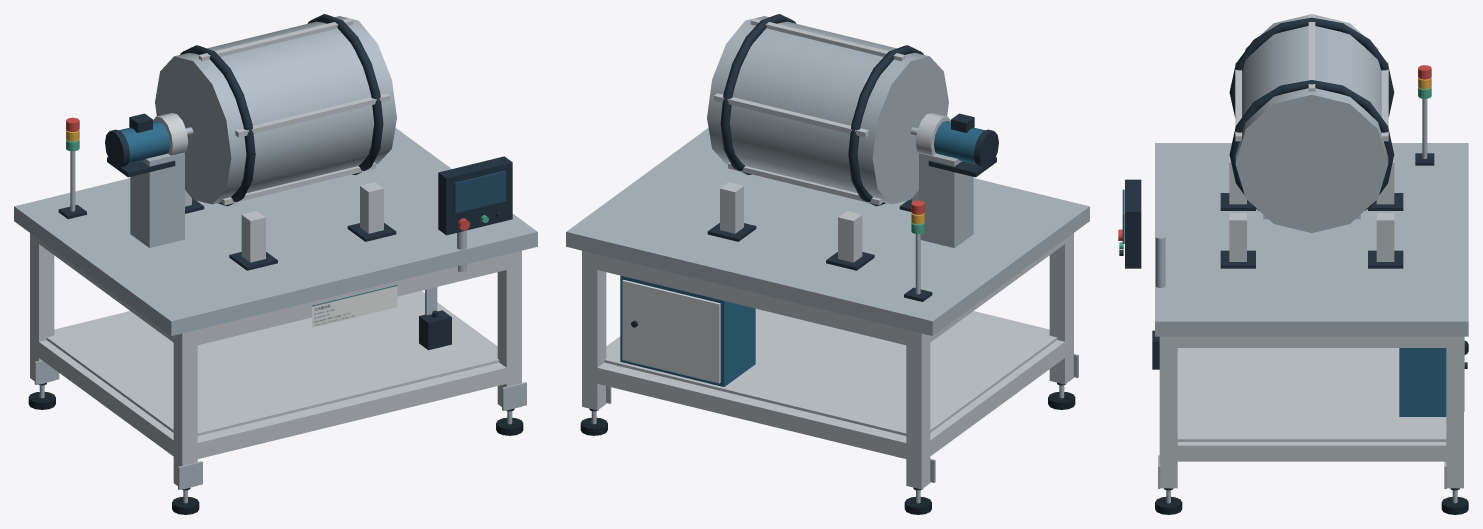
Rendered from rice-polisher-cell.glb.
3 views of the same model, side by side, from view 1: azimuth 30°, elevation 25°; view 2: azimuth 150°, elevation 25°; view 3: azimuth 270°, elevation 25° (orthographic).
Parts seen in each view (by area): view 1: ClosedMachineBed_28, LowerShelf_29, DrumShell_56, SlottedExtrusion_22, DrumDriveStand_71, SlottedExtrusion_23, SlottedExtrusion_8, SlottedExtrusion_24, ConsoleBack_34, SlottedExtrusion_18, SlottedExtrusion_3, OriginalNameplate_42 (+15 smaller); view 2: ClosedMachineBed_28, DrumShell_56, LowerShelf_29, BackDoor_31, SlottedExtrusion_20, SlottedExtrusion_21, DrumDriveStand_71, SlottedExtrusion_3, Cabinet_30, SlottedExtrusion_13, SlottedExtrusion_24, SlottedExtrusion_8 (+11 smaller); view 3: ClosedMachineBed_28, DrumShell_56, LowerShelf_29, SlottedExtrusion_26, SlottedExtrusion_27, Cabinet_30, SlottedExtrusion_18, SlottedExtrusion_13, DrumBand_58, DrumBand_57, ConsoleBack_34, SlottedExtrusion_52 (+11 smaller).
Boxes of the visible parts, bbox=[...] form: ClosedMachineBed_28: bbox=[14, 128, 537, 335]; LowerShelf_29: bbox=[46, 292, 499, 435]; DrumShell_56: bbox=[155, 16, 396, 204]; SlottedExtrusion_22: bbox=[190, 362, 506, 460]; DrumDriveStand_71: bbox=[130, 152, 184, 247]; SlottedExtrusion_23: bbox=[190, 254, 506, 346]; SlottedExtrusion_8: bbox=[173, 330, 197, 489]; SlottedExtrusion_24: bbox=[35, 340, 177, 459]; ConsoleBack_34: bbox=[438, 156, 512, 235]; SlottedExtrusion_18: bbox=[497, 250, 521, 410]; SlottedExtrusion_3: bbox=[30, 233, 54, 384]; OriginalNameplate_42: bbox=[312, 285, 397, 327]; ClosedMachineBed_28: bbox=[566, 128, 1089, 335]; DrumShell_56: bbox=[707, 16, 948, 204]; LowerShelf_29: bbox=[604, 308, 1057, 435]; BackDoor_31: bbox=[622, 280, 720, 383]; SlottedExtrusion_20: bbox=[597, 362, 913, 460]; SlottedExtrusion_21: bbox=[593, 254, 913, 346]; DrumDriveStand_71: bbox=[919, 152, 973, 247]; SlottedExtrusion_3: bbox=[906, 330, 930, 489]; Cabinet_30: bbox=[620, 275, 755, 386]; SlottedExtrusion_13: bbox=[582, 250, 606, 410]; SlottedExtrusion_24: bbox=[930, 339, 1069, 456]; SlottedExtrusion_8: bbox=[1049, 233, 1073, 384]; ClosedMachineBed_28: bbox=[1155, 143, 1468, 336]; DrumShell_56: bbox=[1235, 14, 1388, 232]; LowerShelf_29: bbox=[1177, 348, 1446, 441]; SlottedExtrusion_26: bbox=[1168, 442, 1455, 461]; SlottedExtrusion_27: bbox=[1168, 336, 1455, 347]; Cabinet_30: bbox=[1399, 348, 1446, 416]; SlottedExtrusion_18: bbox=[1159, 336, 1177, 488]; SlottedExtrusion_13: bbox=[1446, 336, 1463, 488]; DrumBand_58: bbox=[1229, 80, 1394, 210]; DrumBand_57: bbox=[1229, 17, 1394, 117]; ConsoleBack_34: bbox=[1125, 179, 1141, 268]; SlottedExtrusion_52: bbox=[1376, 213, 1394, 261].
Bounding box in the file's own units: 1.55 × 1.54 × 1.29.
11 materials, 1 textured.
